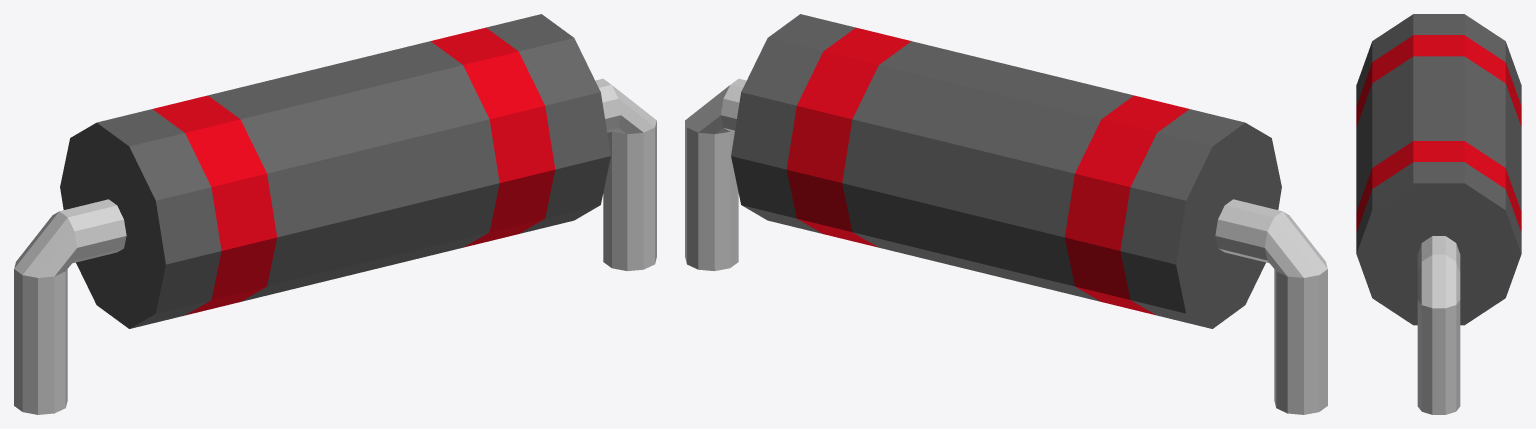
Rendered from TransRed.fbx.
3 renders of one model, left to right at view 1: azimuth 30°, elevation 25°; view 2: azimuth 150°, elevation 25°; view 3: azimuth 270°, elevation 25°, orthographic. The views are drawn at different scales.
Visible parts, largest first — view 1: Cylinder; view 2: Cylinder; view 3: Cylinder.
Boxes of the visible parts, left/top/right/bottom form: Cylinder: left=14, top=14, right=656, bottom=414; Cylinder: left=685, top=14, right=1327, bottom=414; Cylinder: left=1356, top=14, right=1521, bottom=414.
Size of the model in its own units: 202 by 76.52 by 58.44.
